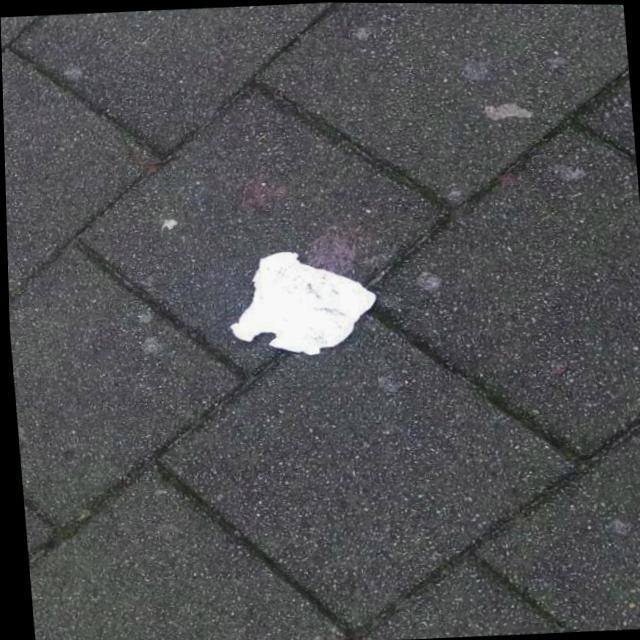Paper: (221, 244, 381, 359)
